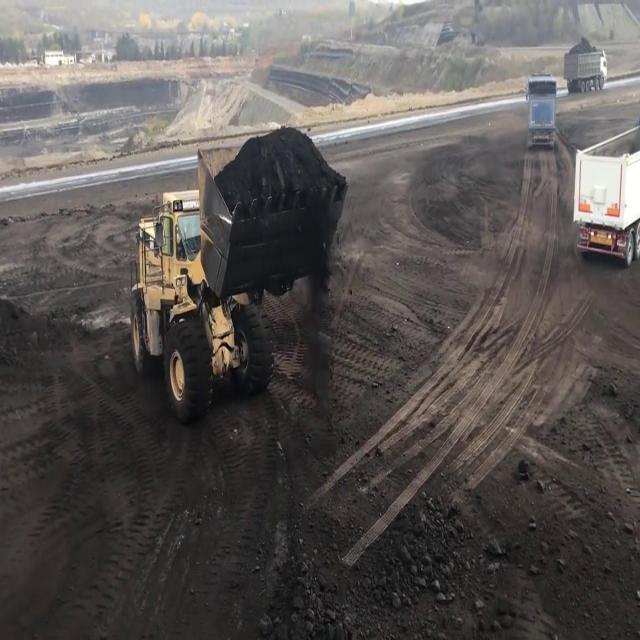Dump Truck: (570, 120, 640, 265), (526, 71, 556, 146), (562, 46, 606, 92)
Loader: (128, 130, 350, 423)
